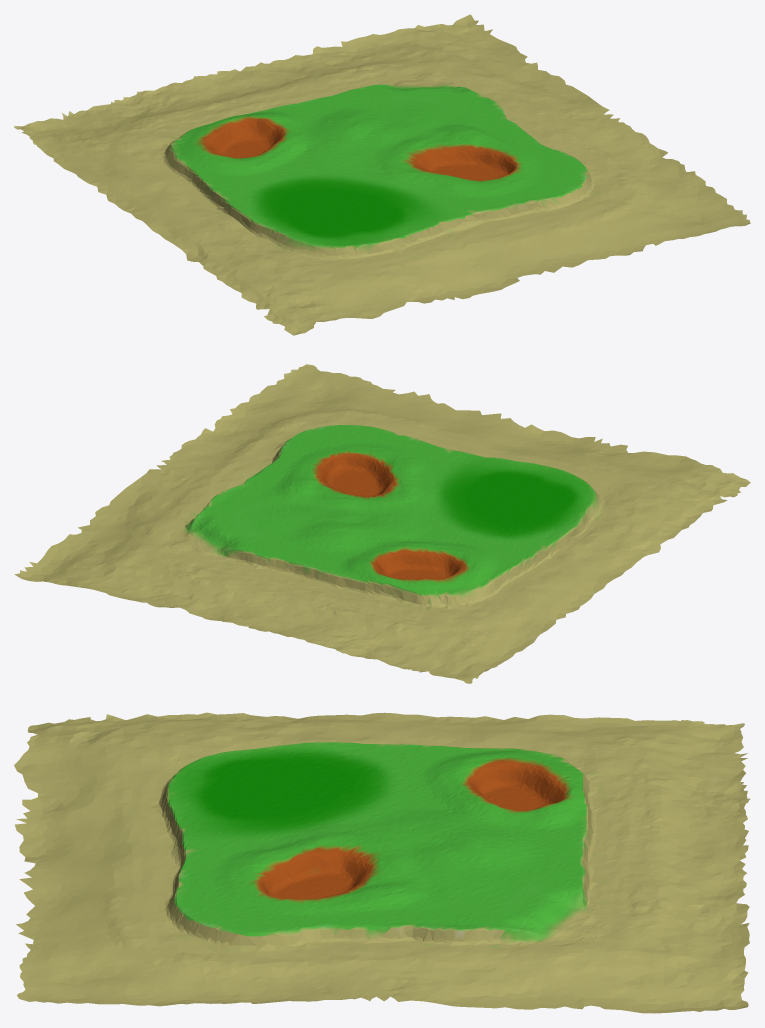
The model's file is Terrain_Version_20thMay.fbx.
The picture shows the model from 3 angles, top to bottom: view 1: azimuth 30°, elevation 25°; view 2: azimuth 150°, elevation 25°; view 3: azimuth 270°, elevation 25°; orthographic projection. The views are drawn at different scales.
Parts seen in each view (by area): view 1: Terrain_Version_18thMay; view 2: Terrain_Version_18thMay; view 3: Terrain_Version_18thMay.
Boxes of the visible parts, <box> form: Terrain_Version_18thMay: <box>14,14,750,335</box>; Terrain_Version_18thMay: <box>14,364,750,683</box>; Terrain_Version_18thMay: <box>14,712,750,1013</box>.
Bounding box in the file's own units: 146589 × 8286 × 156891.
